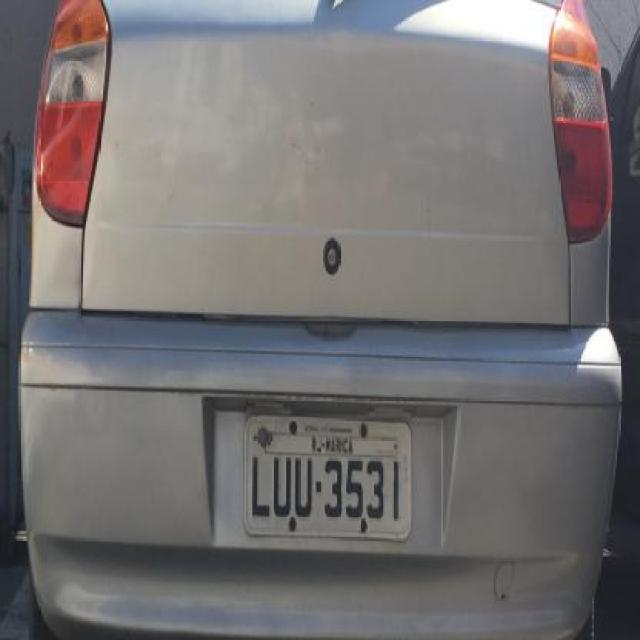old_plate: (238, 412, 418, 544)
